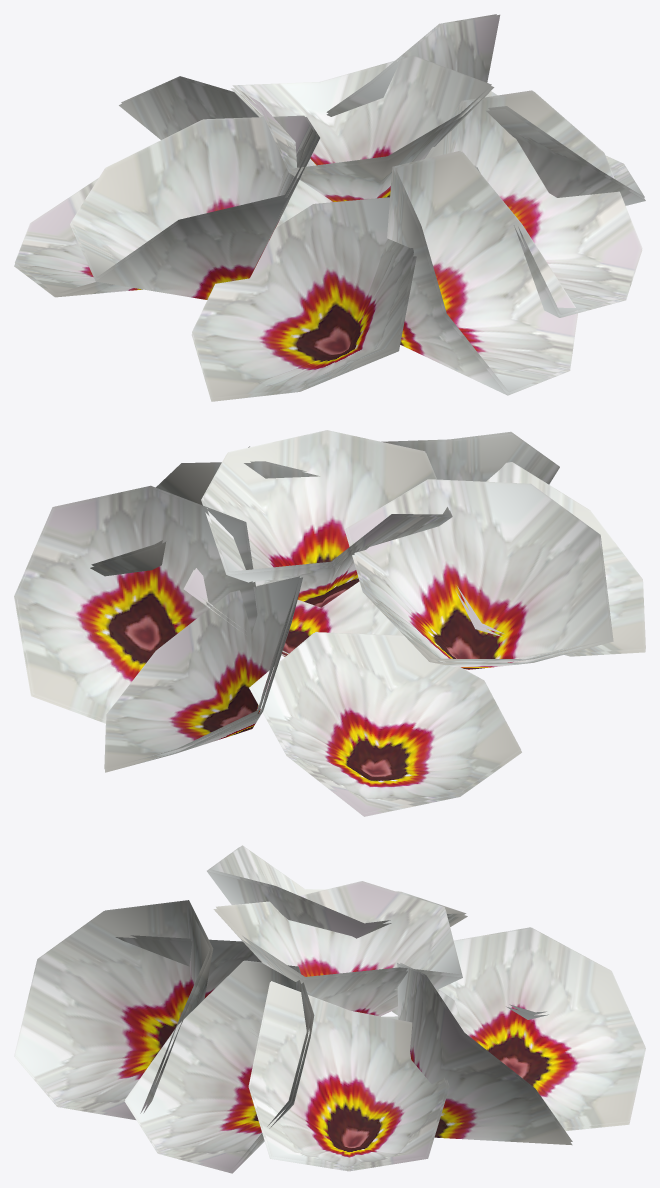
File: flower_white_2.fbx
3 views of the same model, one above another, from view 1: azimuth 30°, elevation 25°; view 2: azimuth 150°, elevation 25°; view 3: azimuth 270°, elevation 25° (orthographic). The views are drawn at different scales.
Parts seen in each view (by area): view 1: flower_white_2; view 2: flower_white_2; view 3: flower_white_2.
Boxes of the visible parts, box(x1,y1,x2,y2) form: flower_white_2: box(14, 14, 645, 401); flower_white_2: box(14, 430, 645, 816); flower_white_2: box(14, 845, 645, 1173).
Bounding box in the file's own units: 1.24 × 0.4772 × 1.35.
